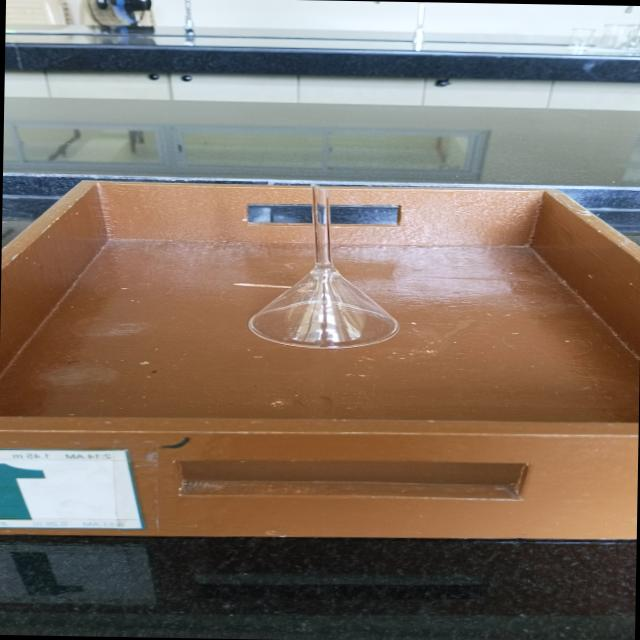funnel: (242, 177, 409, 356)
